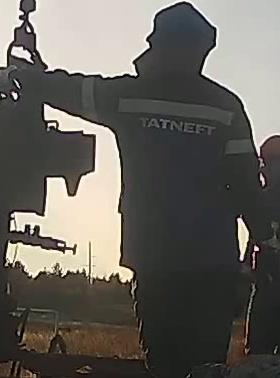vest: (113, 72, 244, 252)
